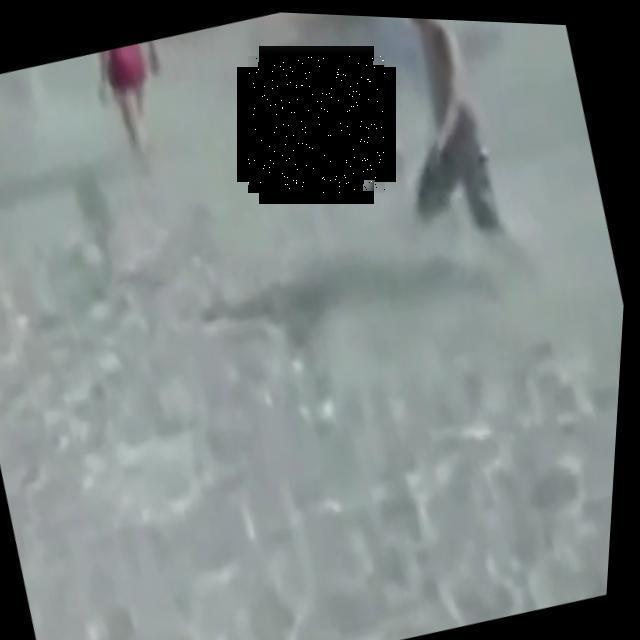swimming: (248, 56, 385, 193)
